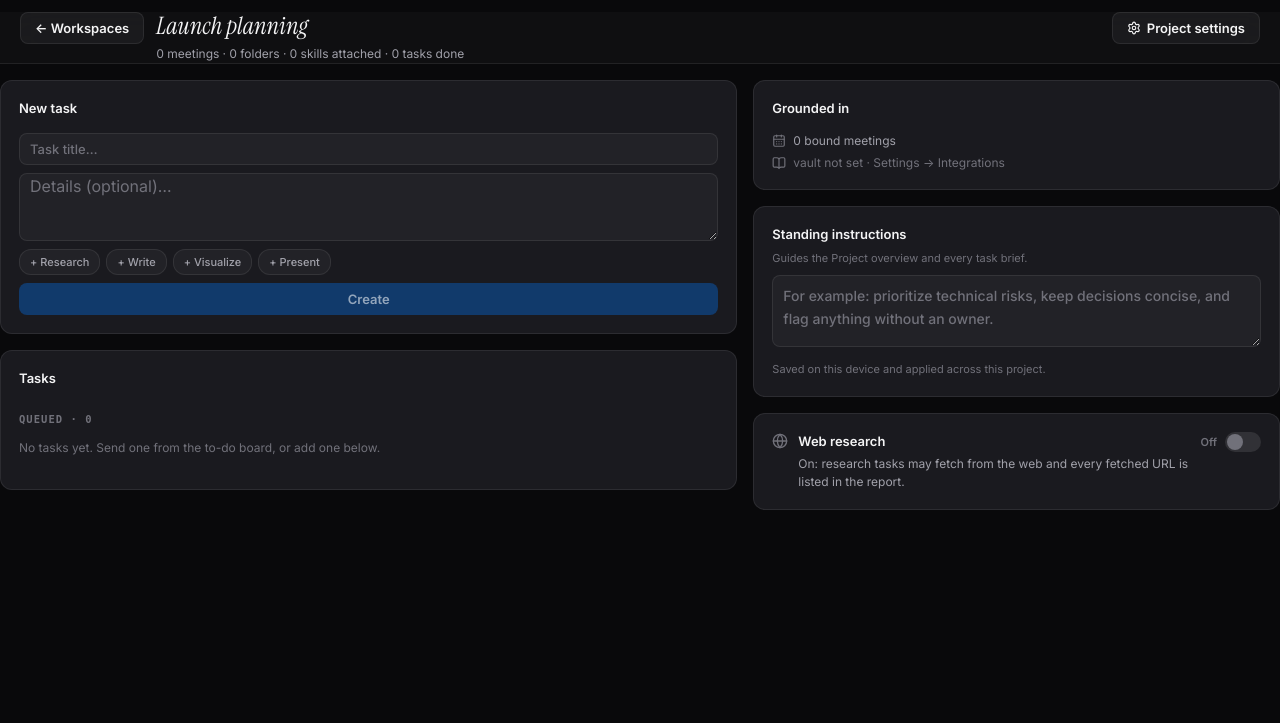
Test: WorkspaceDetailView model selection › does not render the model select for the codex engine
Click the button "Project settings" at [1186, 28], box 1112,12 -> 1260,44
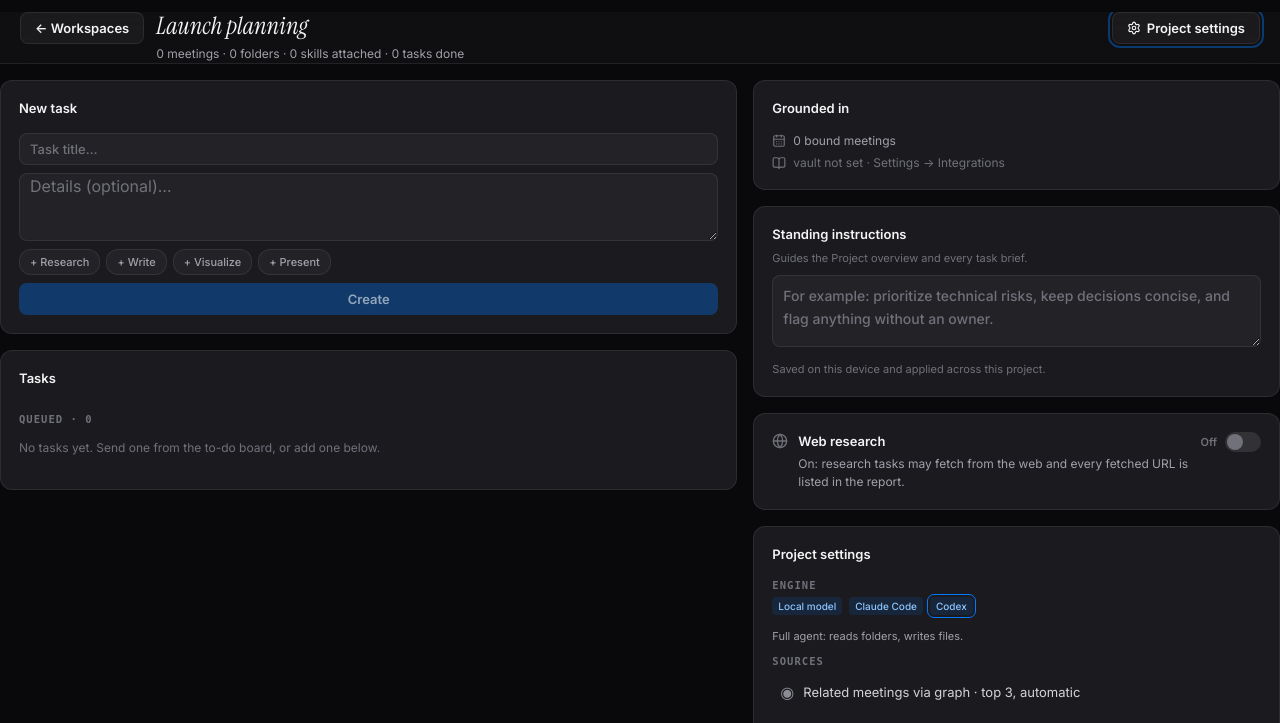
Check: the button "Codex" is shown, box 930,597 -> 973,615
